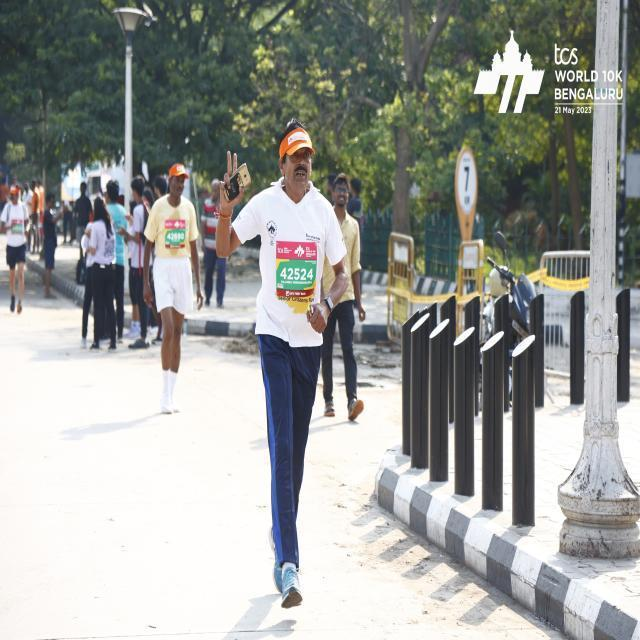dorsal: (272, 234, 324, 307)
